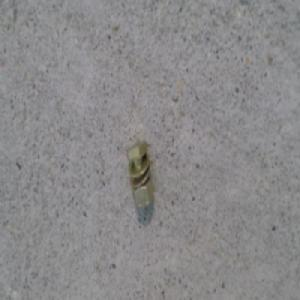BoltNutSet: (126, 140, 155, 208)
